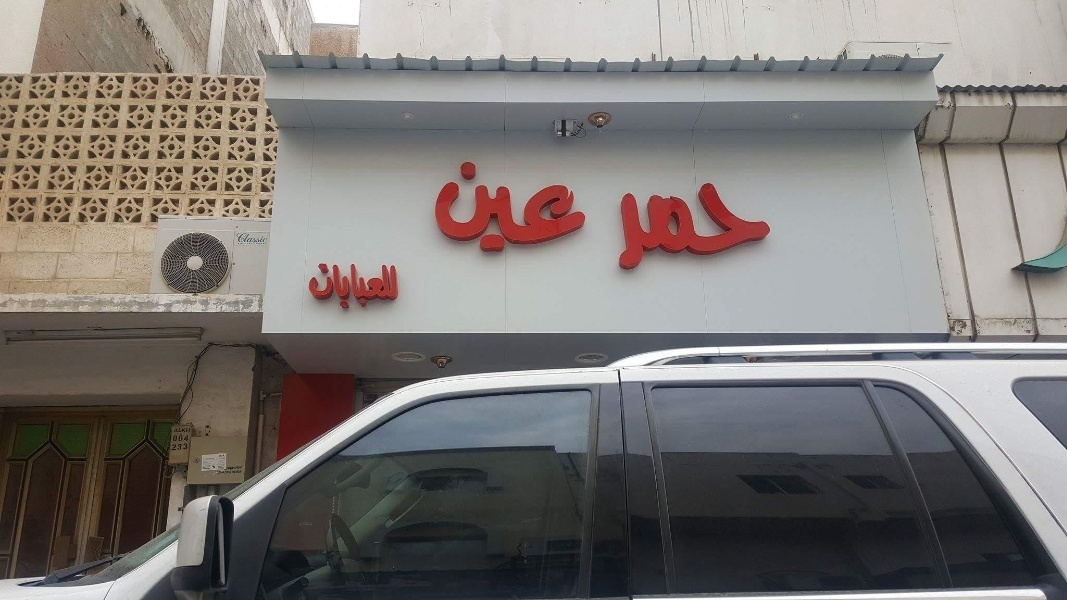text: (449, 160, 464, 253), (465, 160, 480, 253), (481, 160, 496, 253), (497, 160, 512, 253), (513, 160, 528, 253), (529, 160, 544, 253), (545, 160, 560, 253), (561, 160, 576, 253), (625, 182, 640, 270), (641, 182, 656, 270), (657, 182, 672, 270), (673, 182, 688, 270), (689, 182, 704, 270), (705, 182, 720, 270), (721, 182, 736, 270), (737, 182, 752, 270), (753, 182, 768, 270), (436, 160, 448, 253), (577, 160, 587, 253), (321, 264, 336, 309), (337, 264, 352, 309), (353, 264, 368, 309), (369, 264, 384, 309), (385, 264, 400, 309), (308, 264, 320, 309), (619, 182, 624, 270), (769, 182, 772, 270), (241, 233, 256, 244), (257, 233, 268, 244), (177, 435, 190, 443), (177, 443, 189, 451), (177, 428, 191, 433), (227, 465, 240, 470), (225, 471, 240, 475), (171, 443, 176, 451), (237, 233, 240, 244), (173, 435, 176, 443), (174, 428, 176, 433), (241, 465, 242, 470), (241, 471, 242, 475)
